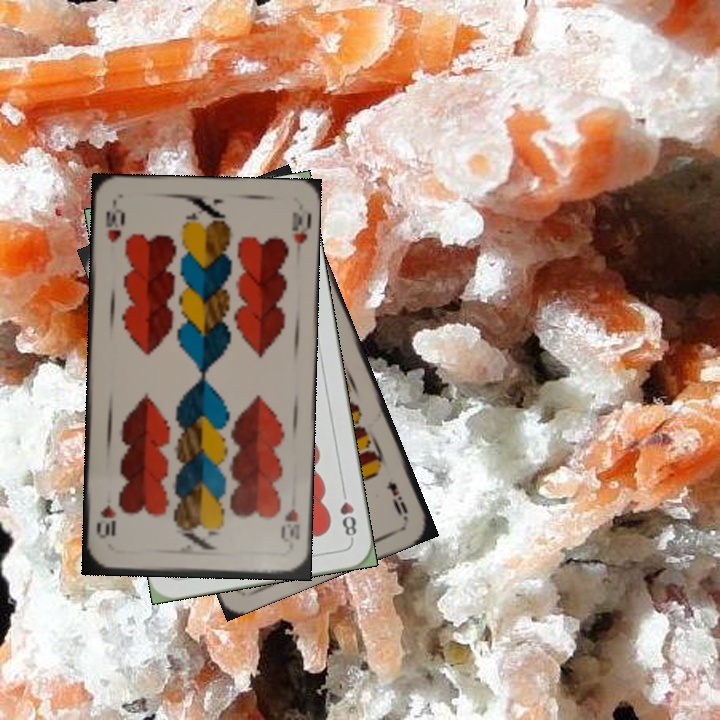E9: (382, 477, 411, 521)
H10: (277, 505, 302, 553), (101, 199, 126, 245)
H8: (336, 484, 359, 543)
